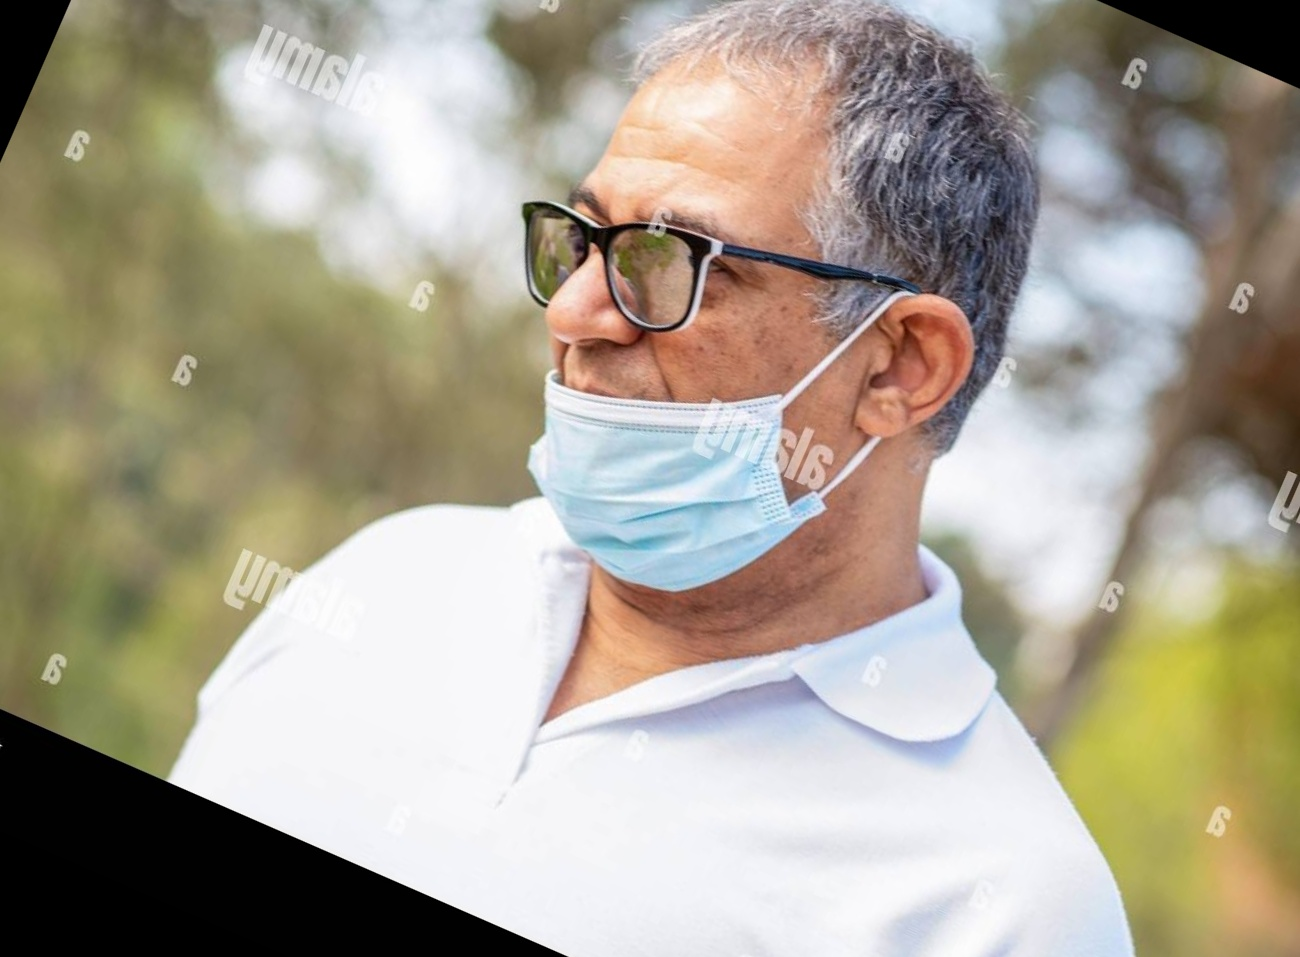mask_weared_incorrect: (515, 39, 962, 569)
